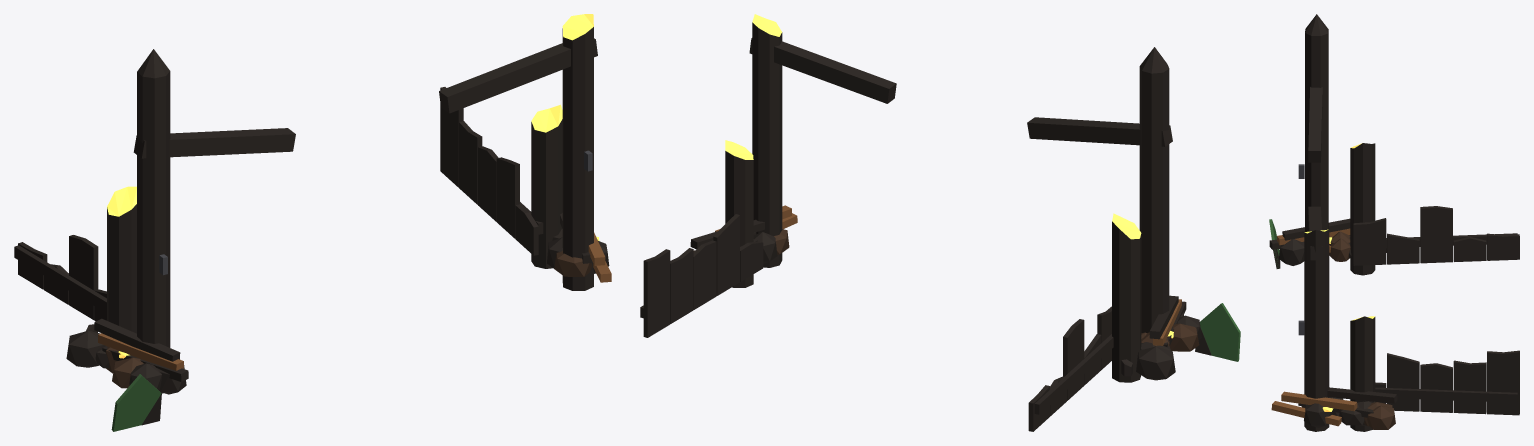
File: Palisade_Tor_Ruine.fbx
The picture shows the model from 3 angles, left to right: view 1: azimuth 30°, elevation 25°; view 2: azimuth 150°, elevation 25°; view 3: azimuth 270°, elevation 25°; orthographic projection. The views are drawn at different scales.
Visible parts, largest first — view 1: Palisade_Tor_Ruine; view 2: Palisade_Tor_Ruine; view 3: Palisade_Tor_Ruine.
Boxes of the visible parts, x1,y1,x2,y2 form: Palisade_Tor_Ruine: [14, 14, 611, 431]; Palisade_Tor_Ruine: [640, 14, 1240, 431]; Palisade_Tor_Ruine: [1269, 14, 1519, 431].
Bounding box in the file's own units: 11.13 × 6.92 × 5.99.
